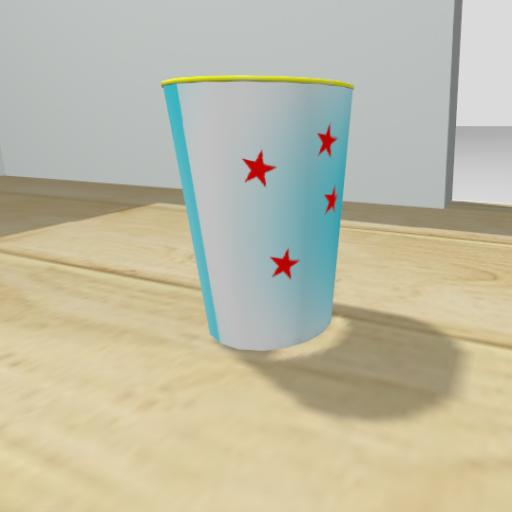Trash: (128, 56, 404, 386)
